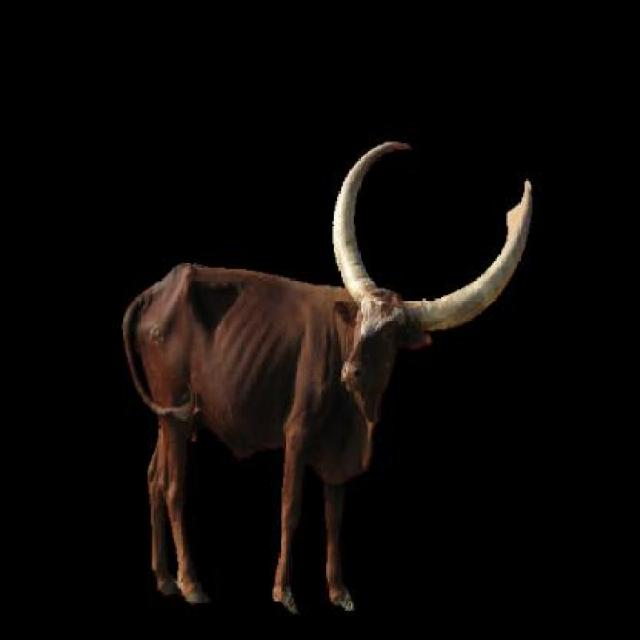Cow: (118, 131, 537, 629)
